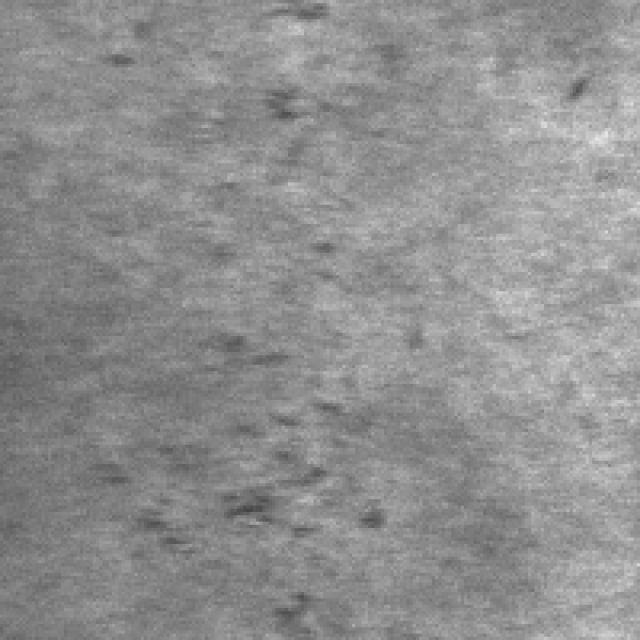rolled-in_scale: (99, 323, 381, 602), (163, 77, 333, 291)
